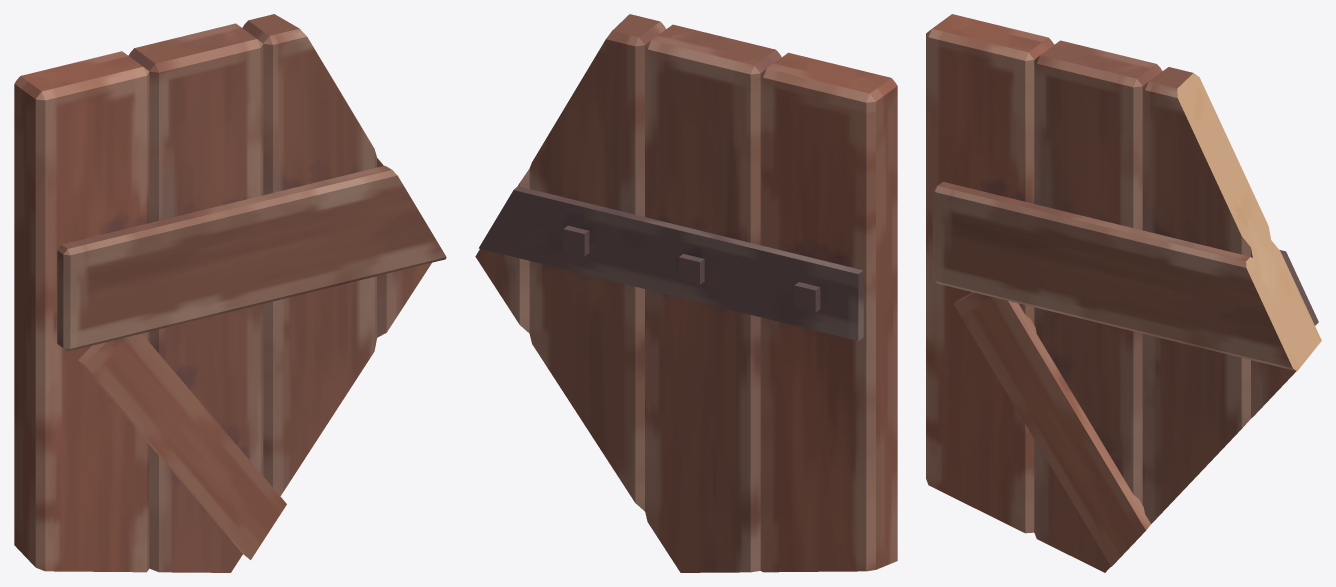
File: door_s05.fbx
3 renders of one model, left to right at view 1: azimuth 30°, elevation 25°; view 2: azimuth 150°, elevation 25°; view 3: azimuth 330°, elevation 25°, orthographic. The views are drawn at different scales.
Parts seen in each view (by area): view 1: door_s05; view 2: door_s05; view 3: door_s05.
Boxes of the visible parts, x1,y1,x2,y2 form: door_s05: (14, 14, 446, 572); door_s05: (475, 14, 897, 572); door_s05: (926, 14, 1321, 572).
Size of the model in its own units: 2.29 by 2.86 by 0.465.
